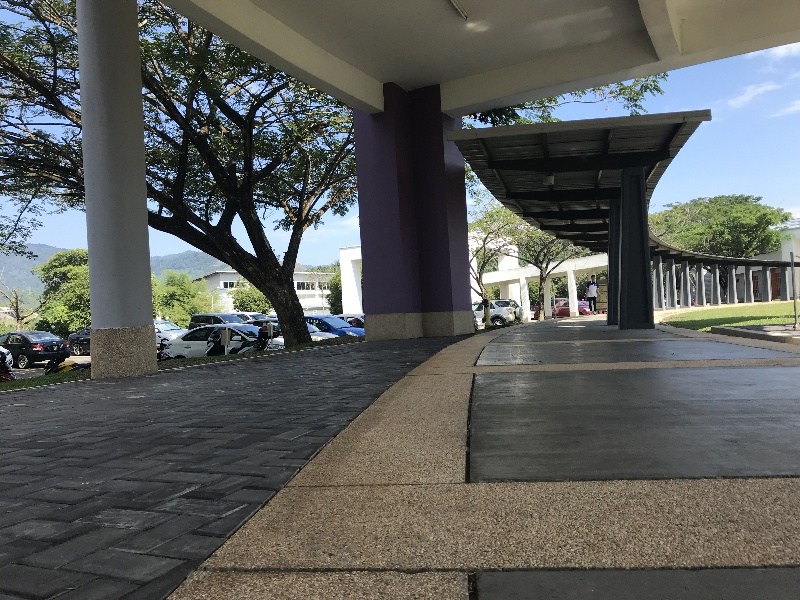Block D corridor: (6, 2, 789, 589)
pillar: (346, 80, 479, 346), (77, 7, 168, 378), (614, 167, 661, 334)
